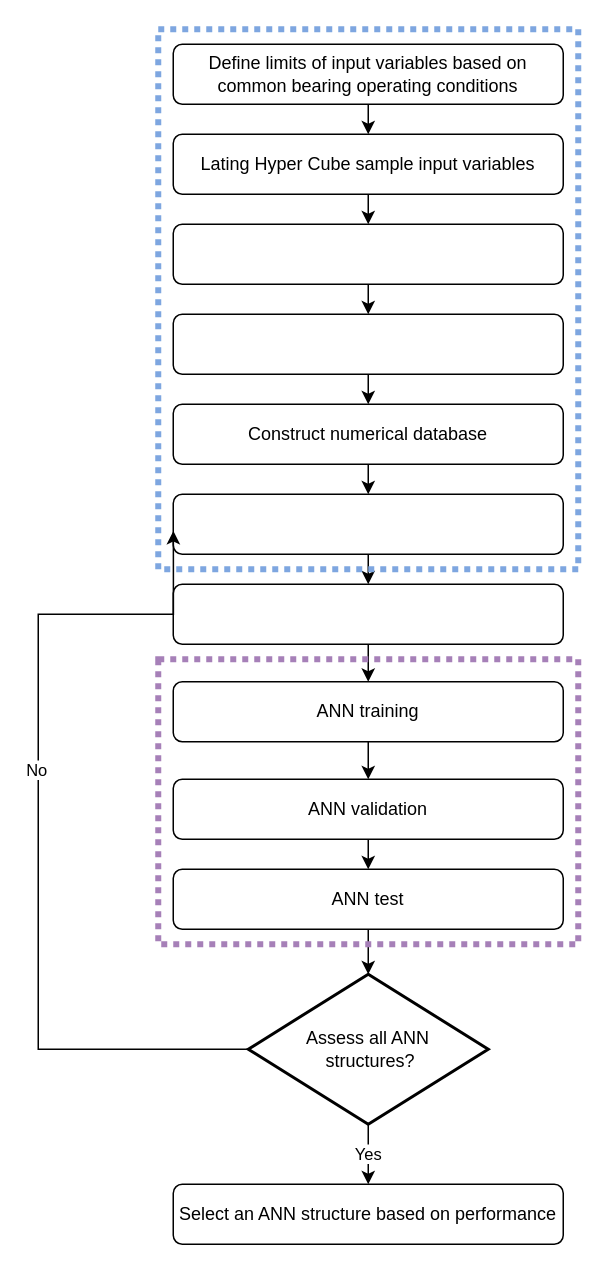
Image size: 608x1271. Some labels were removed from this diagram. Each missing label, with the box of its shape:
Contrain inputs to valid operating regions (Greenwood Regime chart): (172, 223, 563, 284)
Define ANN structure (Hyperparameters and activation function): (172, 583, 563, 644)
Normalise inputs: (172, 493, 563, 554)
Numerical EHL: (172, 313, 563, 374)
